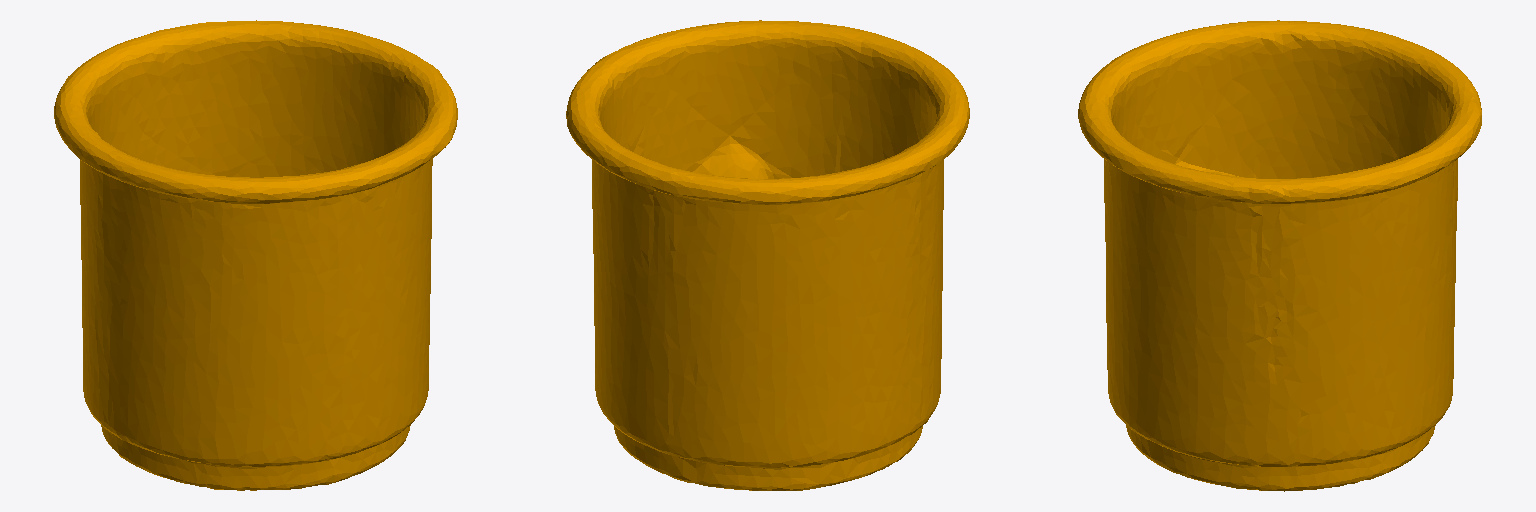
The robot description file, URDF, robot "065-f_cups":
<?xml version="1.0" ?>
<robot name="065-f_cups">
  <link name="base_link">
    <inertial>
      <mass value="0.03095364224031516"/>
      <origin rpy="3.13568e+00  9.30000e-04 -2.85927e+00" xyz="-0.03305  0.02611  0.03809"/>
      <inertia ixx="2.3769041232010545e-05" ixy="-1.473484890166429e-21" ixz="-9.633574264671292e-23" iyy="2.370090038752435e-05" iyz="3.4467572790645336e-22" izz="2.1496680724052704e-05"/>
    </inertial>
    <collision name="065-f_cups__collision">
      <origin rpy="0 0 0" xyz="0 0 0"/>
      <geometry>
        <mesh filename="./065-f_cups_250_collision.stl" scale="1.0 1.0 1.0"/>
      </geometry>
    </collision>
    <visual name="065-f_cups__visual">
      <origin rpy="0 0 0" xyz="0 0 0"/>
      <geometry>
        <mesh filename="./textured.obj" scale="1.0 1.0 1.0"/>
      </geometry>
    </visual>
  </link>
</robot>

--- Facts derived from the render (not from the file) ---
3 views of the same robot in one strip: view 1: azimuth 30°, elevation 25°; view 2: azimuth 150°, elevation 25°; view 3: azimuth 270°, elevation 25° (orthographic).
Model 065-f_cups with 1 links and 0 joints (none), rooted at base_link, posed every joint at zero.
Visible links, largest first — view 1: base_link; view 2: base_link; view 3: base_link.
Link boxes in pixels (x1,y1,x2,y2): base_link: [54, 20, 457, 490]; base_link: [566, 20, 969, 490]; base_link: [1078, 20, 1481, 491].
Bounding box of the posed robot: 0.0807 × 0.0809 × 0.0722 m (x, y, z).
1 mesh visuals loaded from 1 distinct referenced files (1 OBJ).